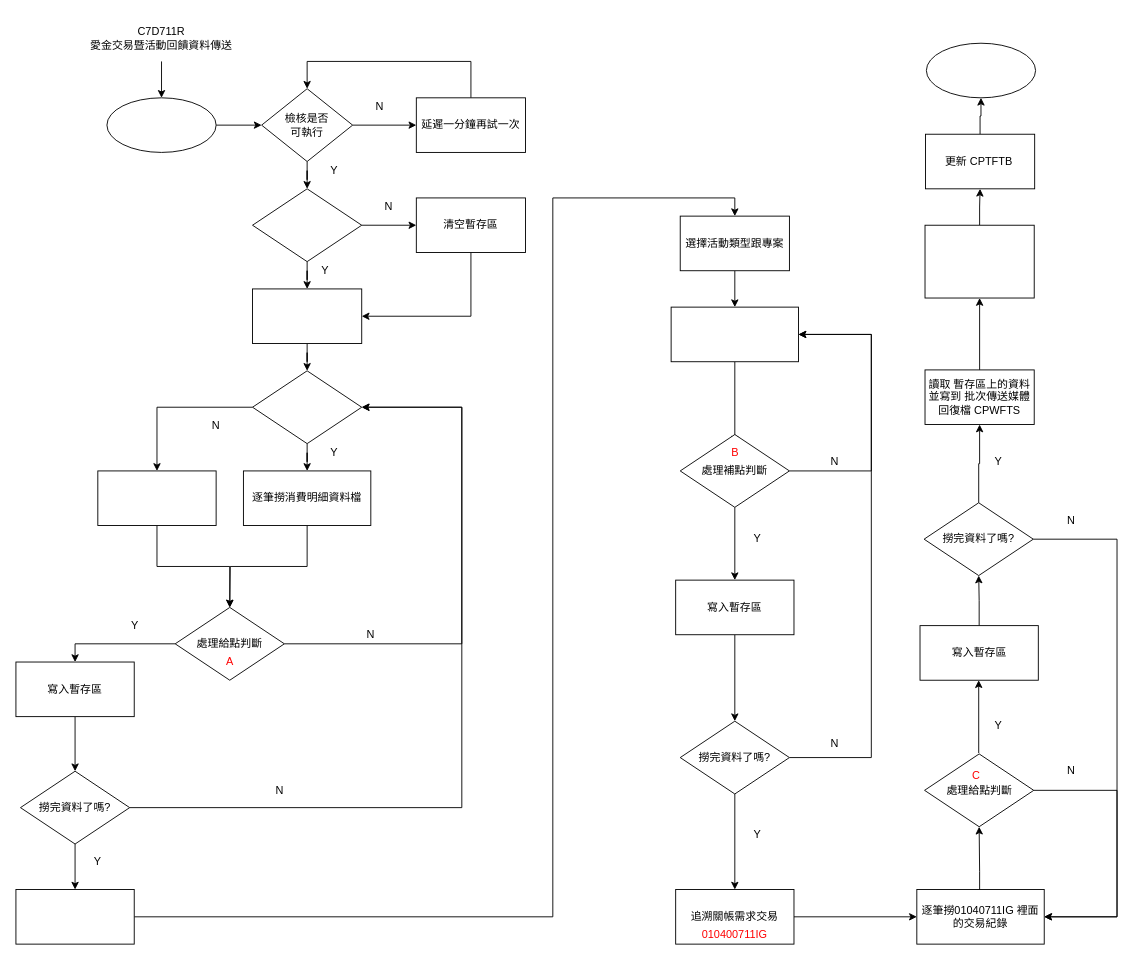
The diagram is 1140 pixels wide and 960 high, and some of its shapes have lost their labels. The shapes that lost their labels are listed below. From the top down, each one's centre as x and y in pixels, then its label:
pixel 980 70: 結束
pixel 161 124: 開始
pixel 307 225: 檢查占存區是否為空?
pixel 979 261: 傳送 Data Queue 更名為 TRANS + zesun + YYYYMMDD01.txt 到 CPTFTB
pixel 307 316: 消費放款金額
pixel 734 334: 逐筆撈活動贈品兌換檔
pixel 307 407: 還有明細資料?
pixel 156 498: 逐筆撈消費明細歷史檔
pixel 74 916: 專案活動補點
